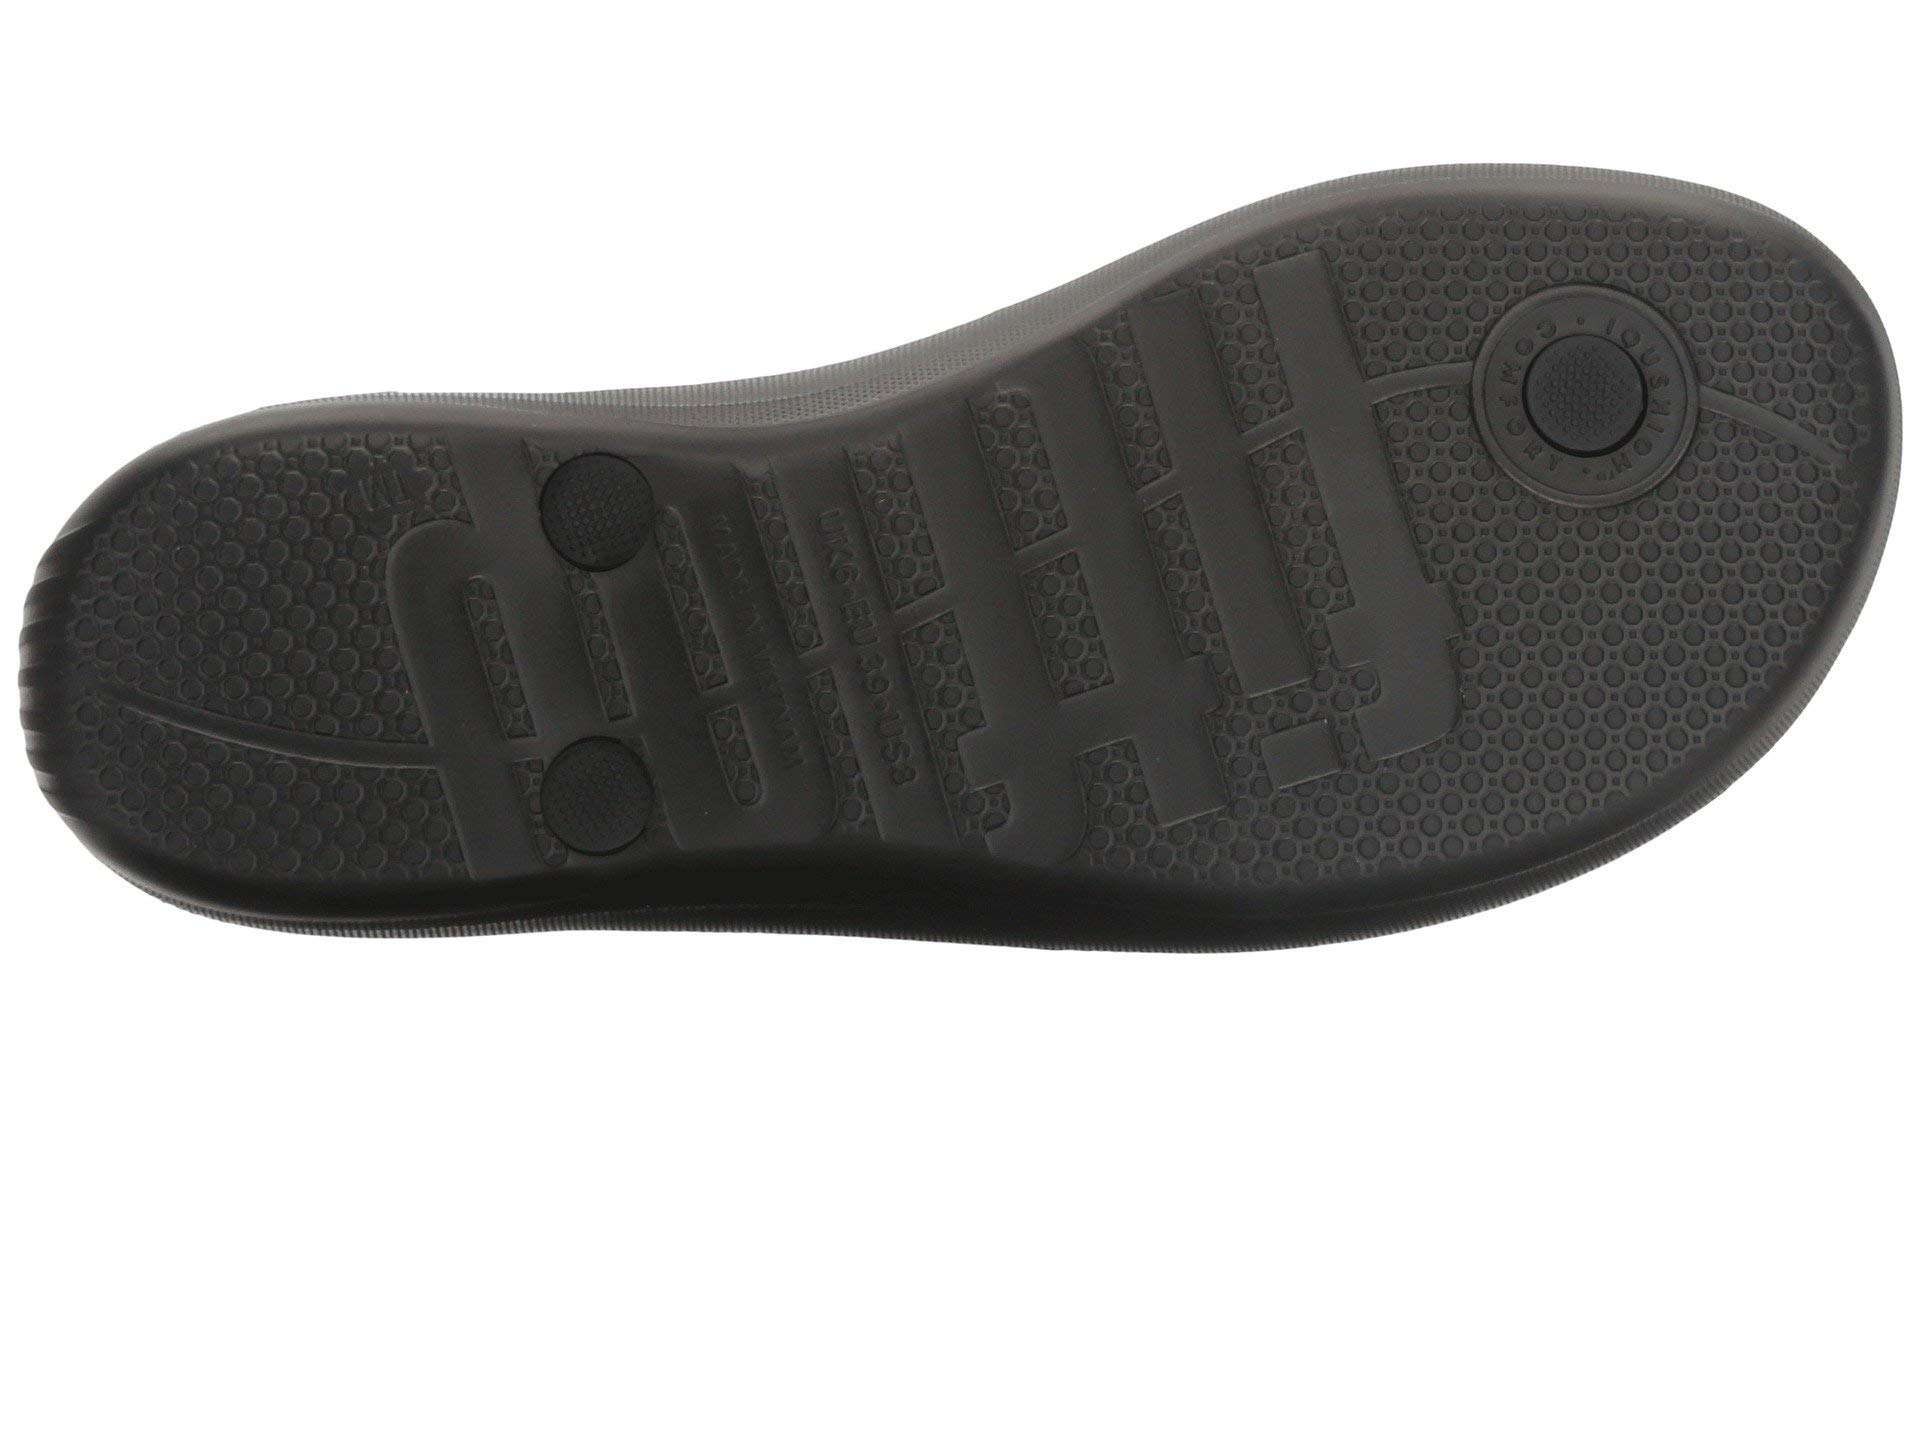circle: (903, 274, 1494, 865), (305, 399, 907, 912), (1426, 242, 1784, 582), (35, 561, 289, 802), (1519, 596, 1702, 773)
line: (903, 274, 1494, 865), (305, 399, 907, 912), (1426, 242, 1784, 582), (35, 561, 289, 802)
text: (903, 274, 1494, 865), (305, 399, 907, 912), (1426, 242, 1784, 582)
